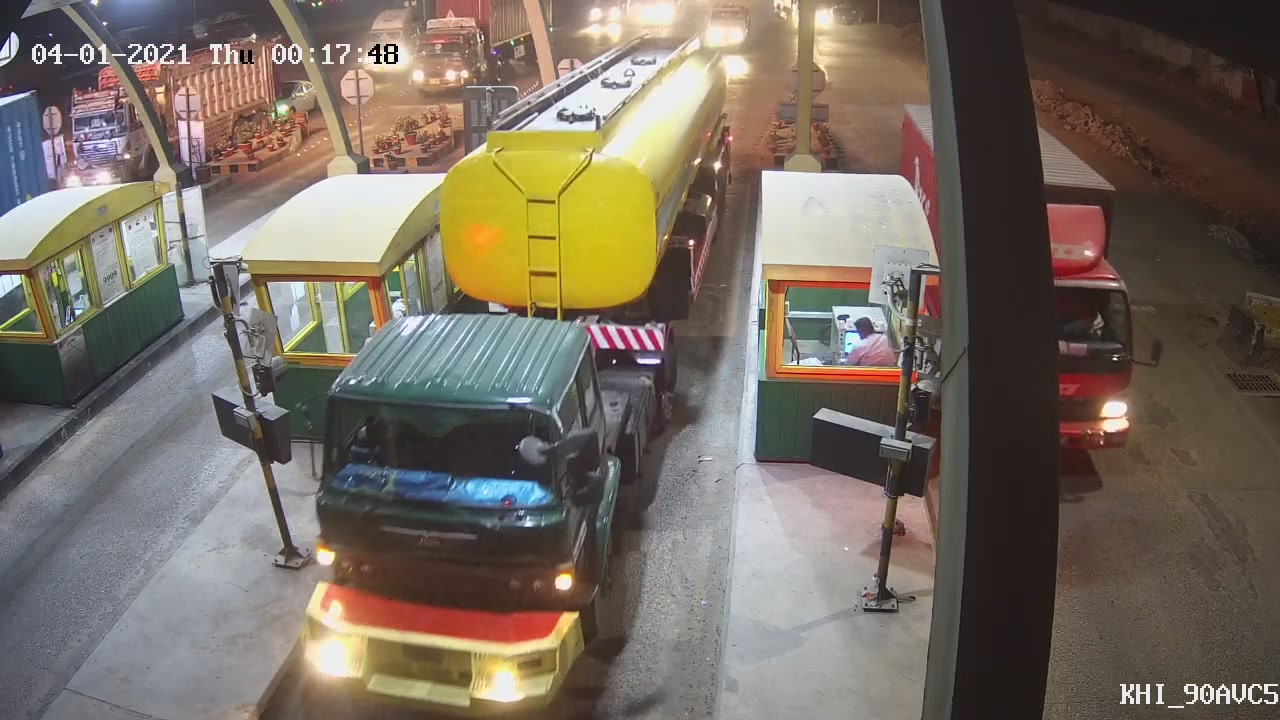F6: (305, 29, 736, 708)
